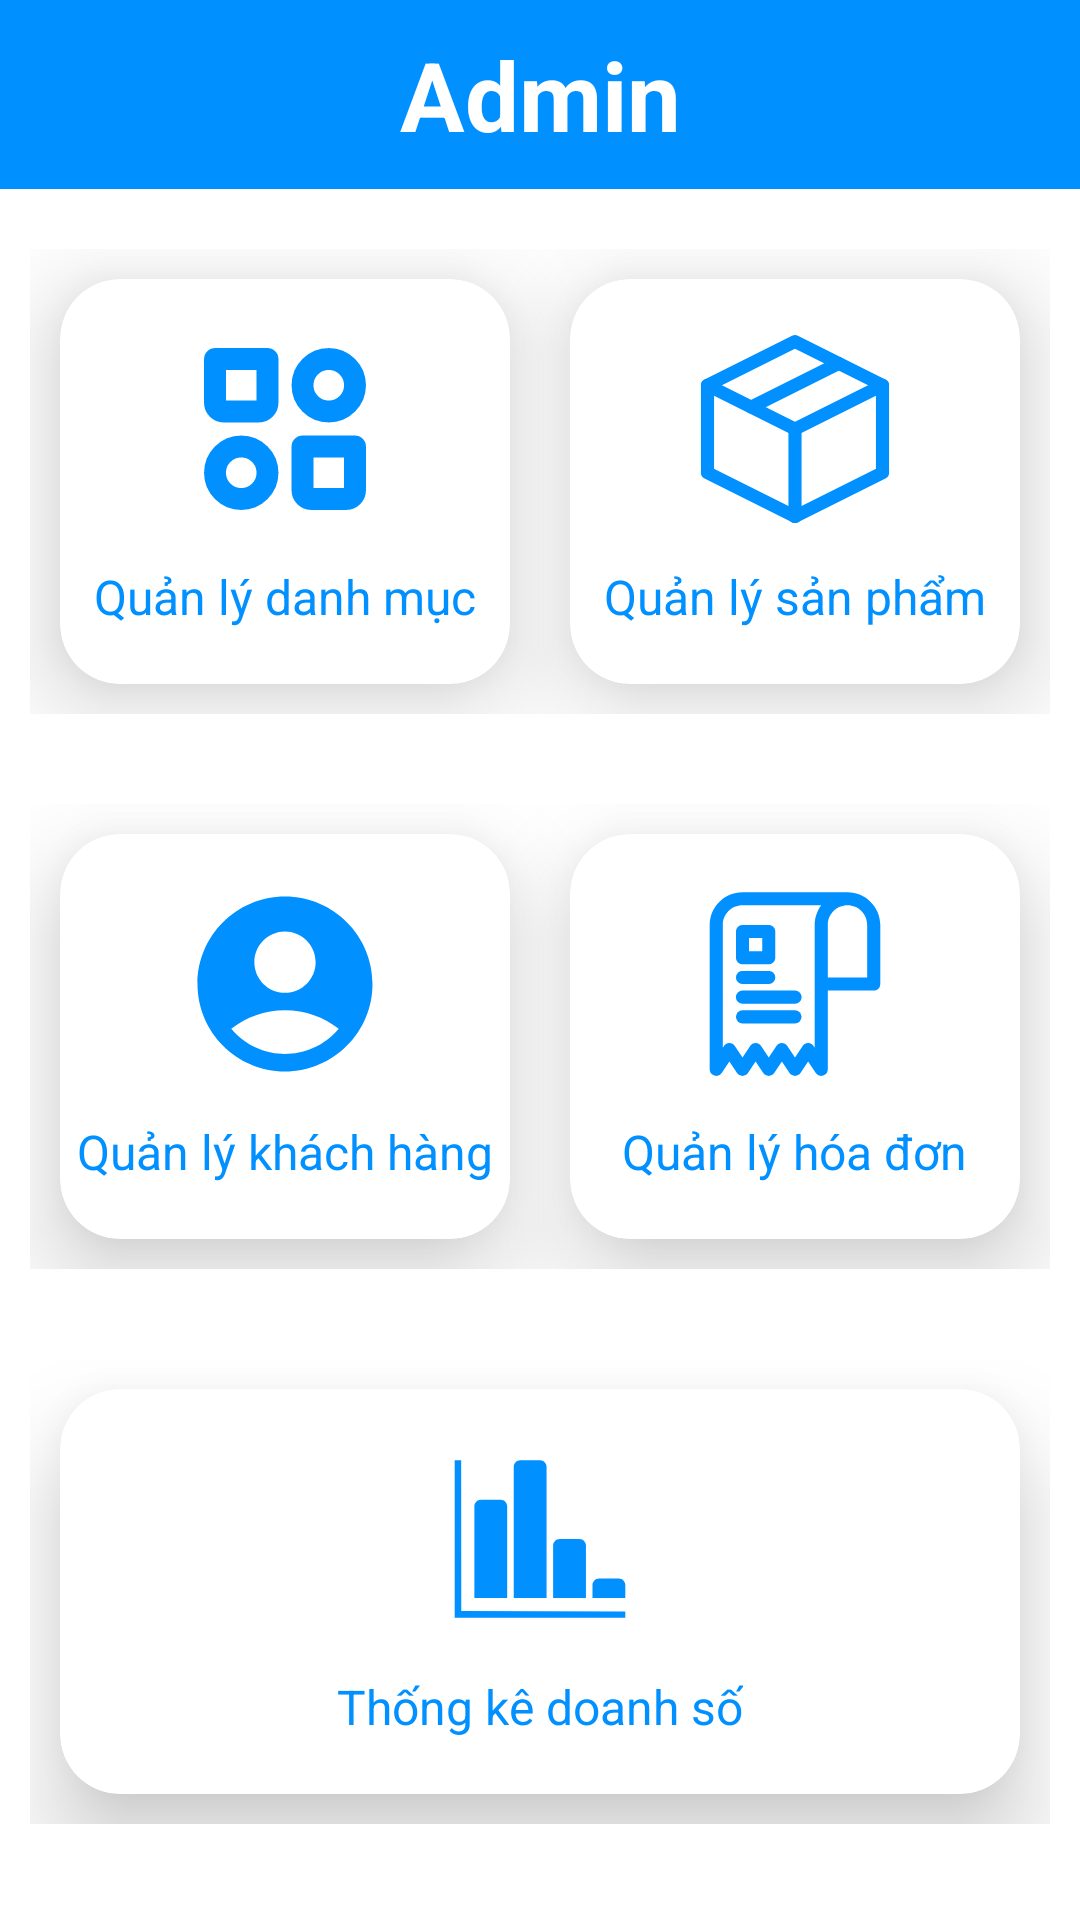

Locate icon controls on the screen. Image size 1080px×1920px, boxes as (x1, y1, x2, y2).
category: (204, 348, 366, 510)
chart: (454, 1460, 626, 1618)
user: (197, 896, 373, 1072)
